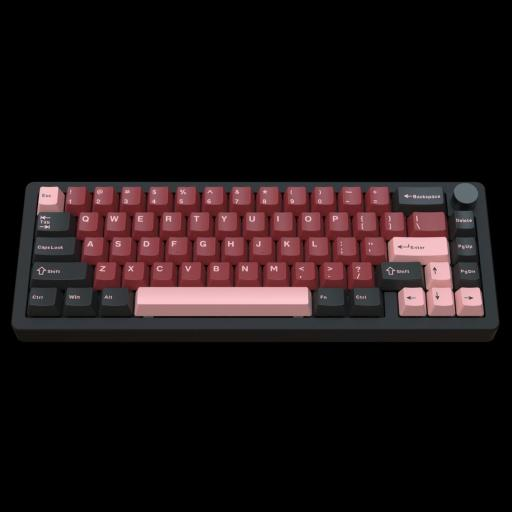KEYBOARD-2: (17, 176, 500, 338)
